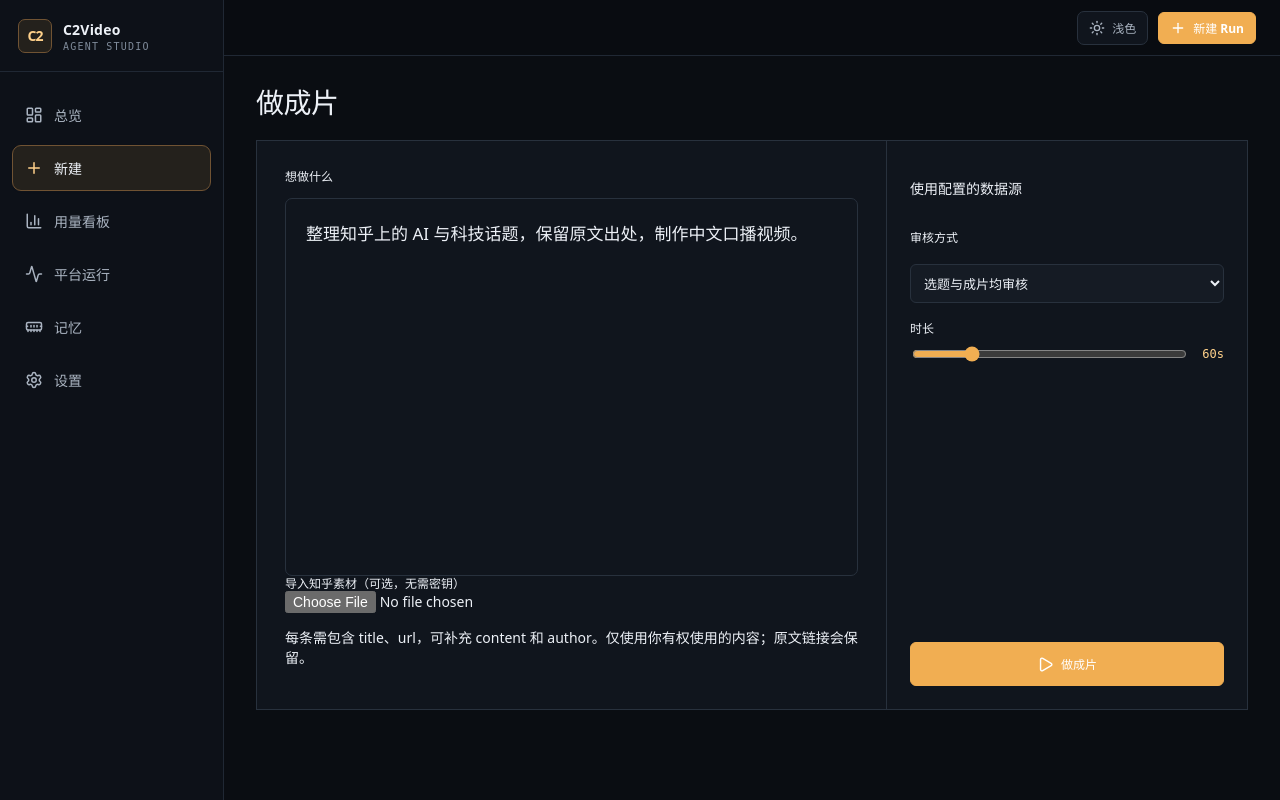
it: shows task creation errors and allows retry
Click the button "做成片": coordinates (1067, 664) [910,642,1224,686]
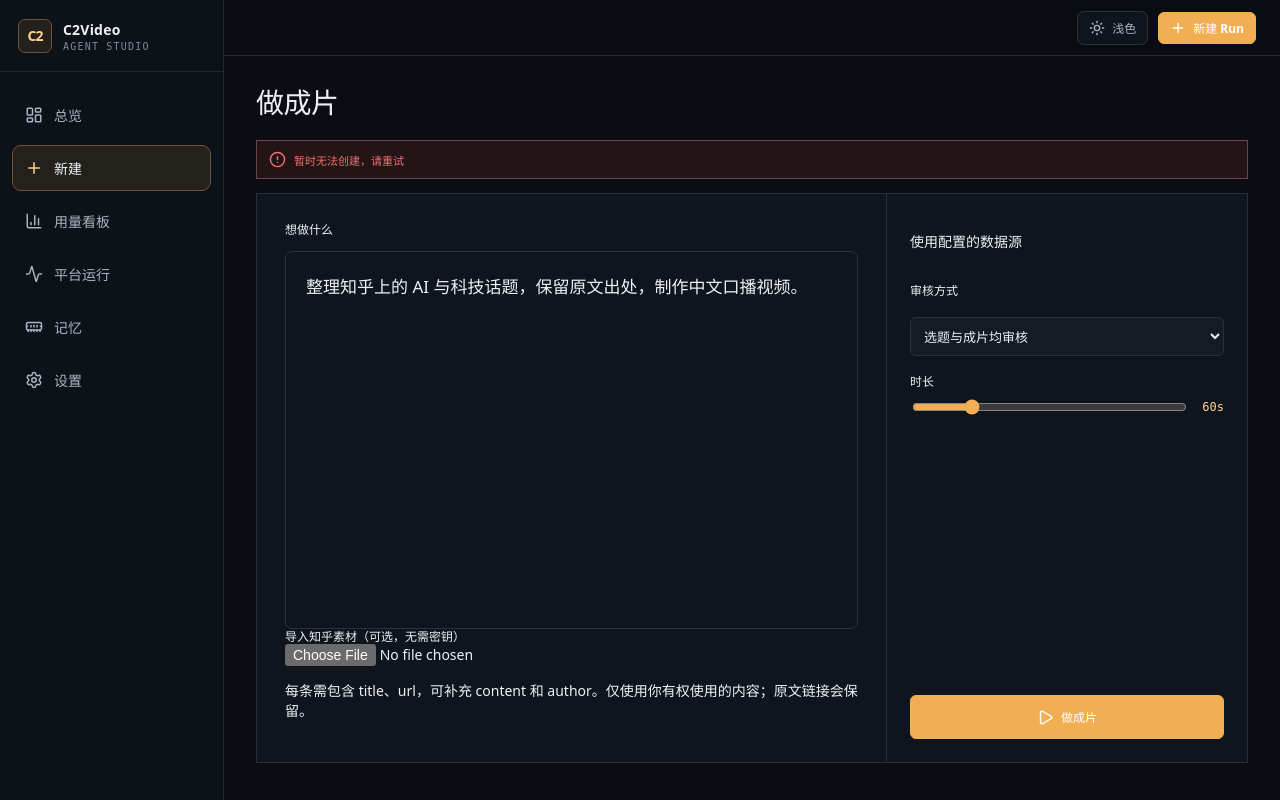
Expected: the button "做成片" is enabled, [910,695,1224,739]
Now the message reads "暂时无法创建，请重试", box [294,153,404,168]
